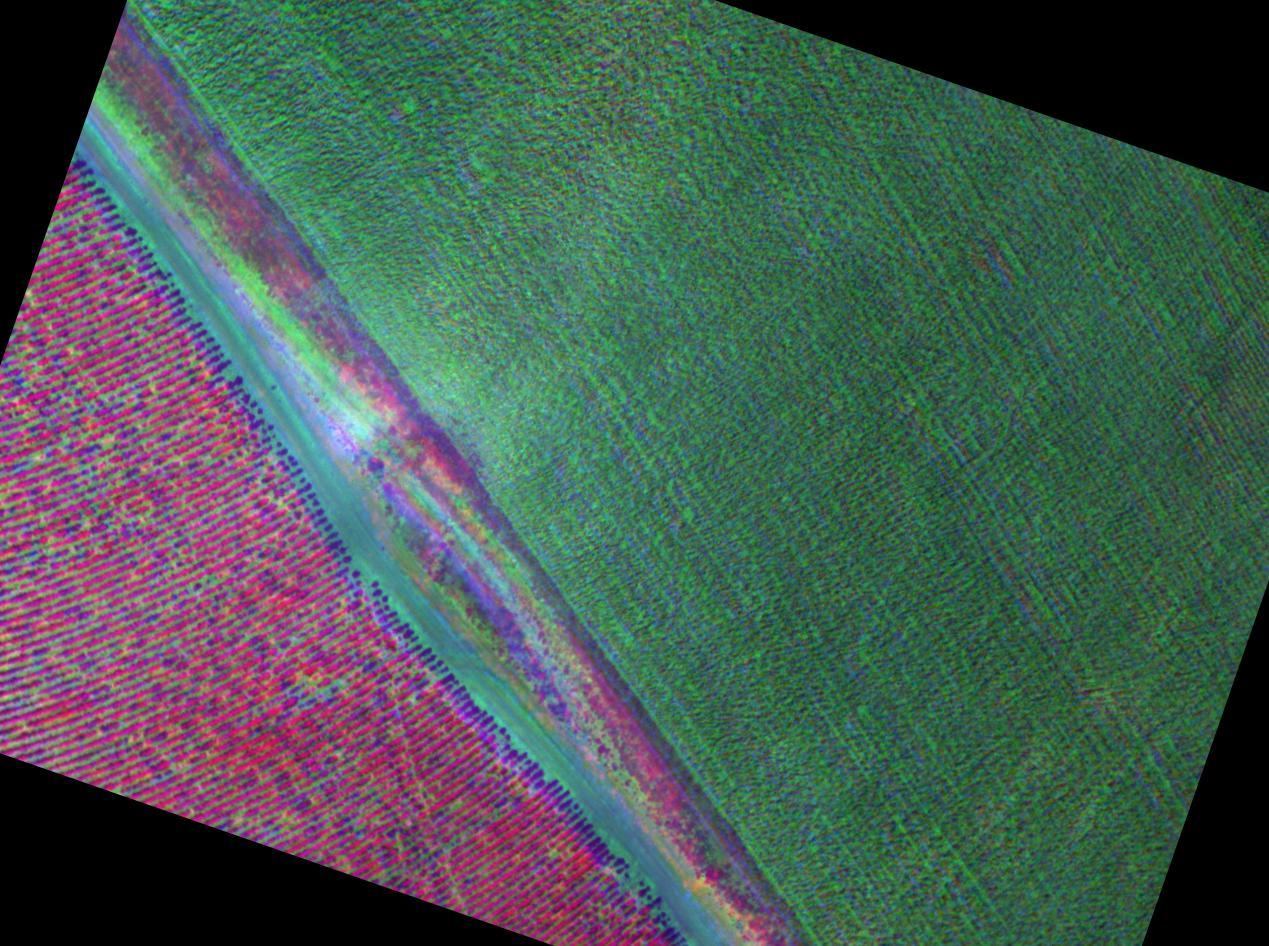dc: (145, 516, 227, 598), (18, 439, 128, 499), (8, 338, 77, 404), (47, 208, 120, 261), (288, 658, 359, 712)
